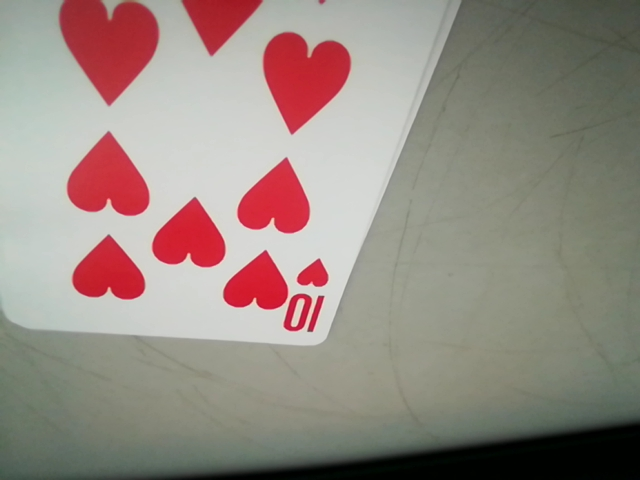hx 10: (278, 254, 342, 340)
